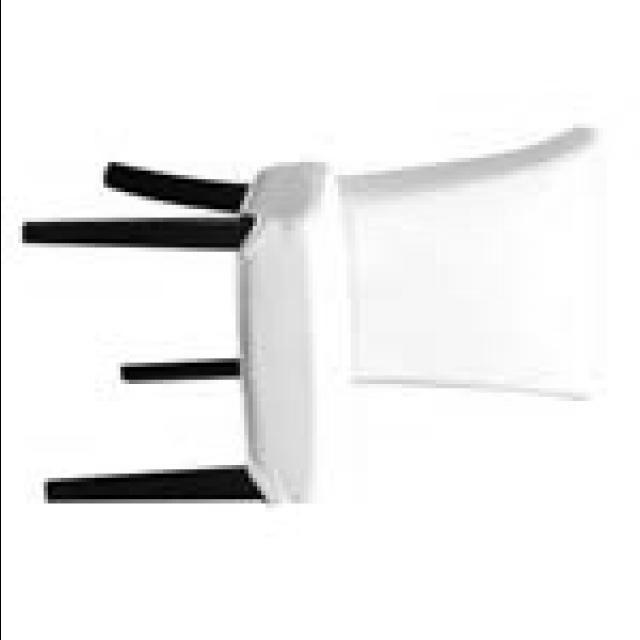chair: (19, 119, 610, 507)
